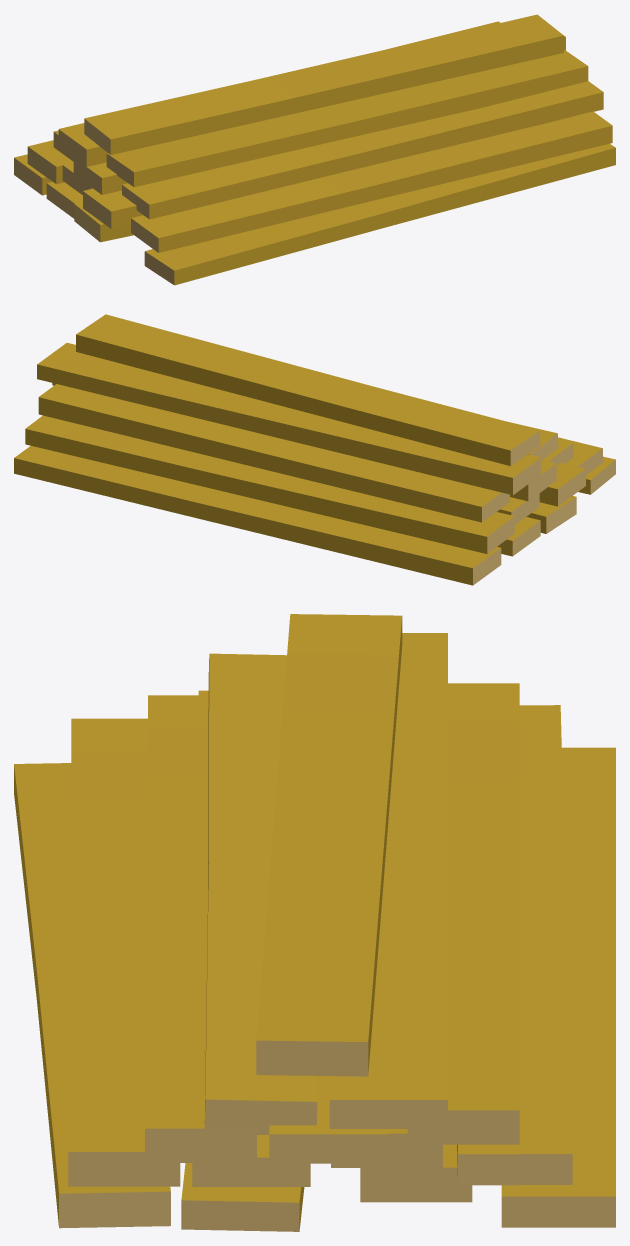
The model's file is woodplanks 1.fbx.
The picture shows the model from 3 angles, top to bottom: view 1: azimuth 30°, elevation 25°; view 2: azimuth 150°, elevation 25°; view 3: azimuth 270°, elevation 25°; orthographic projection. The views are drawn at different scales.
Parts seen in each view (by area): view 1: wood_planks1; view 2: wood_planks1; view 3: wood_planks1.
Part boxes in pixels (x1,y1,x2,y2): wood_planks1: (14, 14, 615, 285); wood_planks1: (14, 314, 615, 585); wood_planks1: (14, 614, 615, 1231).
Bounding box in the file's own units: 19.82 × 3.69 × 10.67.
